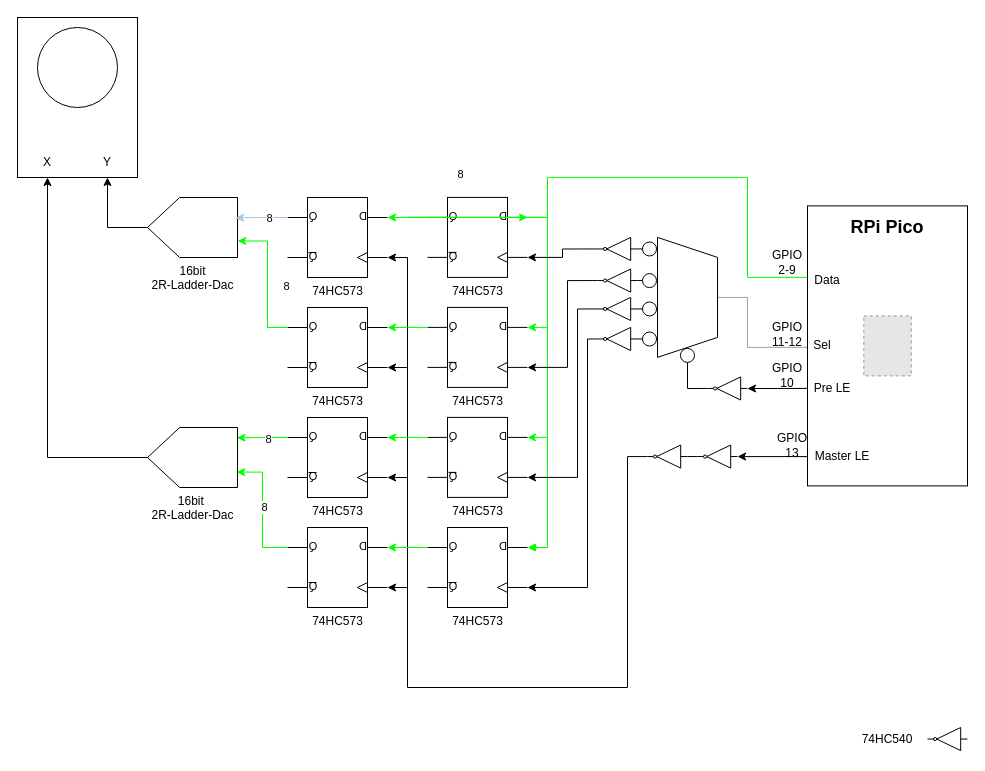
The diagram is 985 pixels wide and 771 high, and some of its shapes have lost their labels. Grey dashed boxes stand in for pictures. Each missing label, with the centre of its shape:
Decoder 2:4: [687,296]
Oscilloscope: [77,67]
